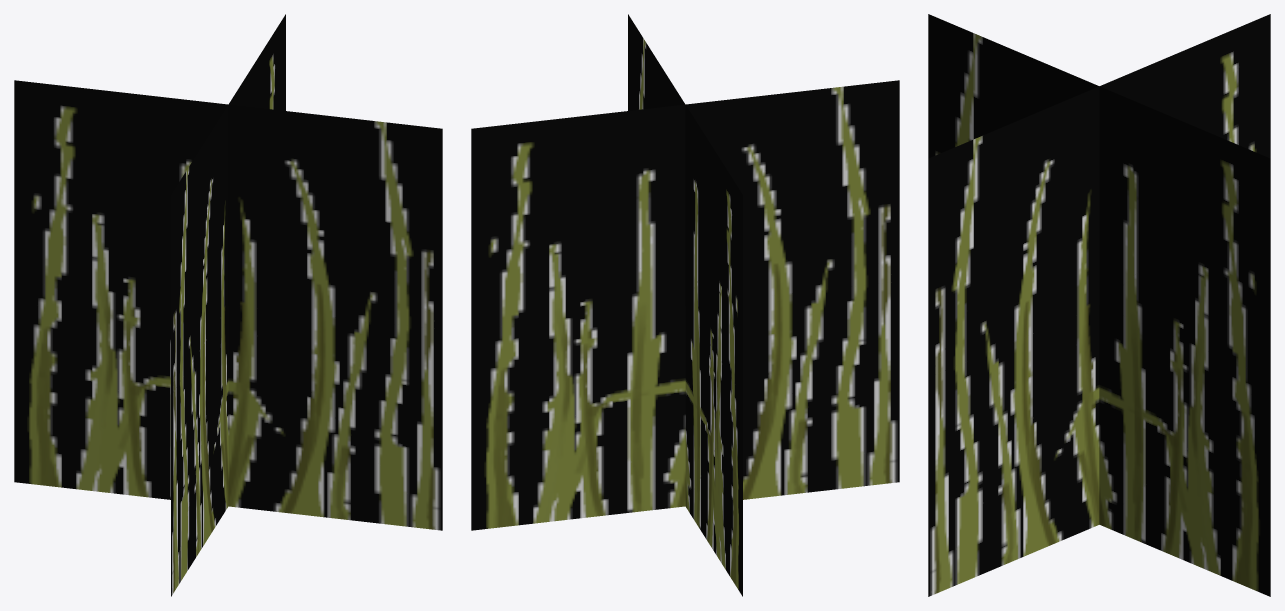
Rendered from grass03.fbx.
3 renders of one model, left to right at view 1: azimuth 30°, elevation 25°; view 2: azimuth 150°, elevation 25°; view 3: azimuth 270°, elevation 25°, orthographic. The views are drawn at different scales.
Visible parts, largest first — view 1: Grass03.001, Grass03; view 2: Grass03, Grass03.001; view 3: Grass03, Grass03.001.
Boxes of the visible parts, bbox=[...] form: Grass03.001: bbox=[14, 80, 442, 530]; Grass03: bbox=[171, 14, 285, 596]; Grass03: bbox=[471, 80, 899, 530]; Grass03.001: bbox=[628, 14, 742, 596]; Grass03: bbox=[928, 14, 1270, 596]; Grass03.001: bbox=[928, 14, 1270, 596].
Size of the model in its own units: 26.43 by 37.37 by 26.43.
